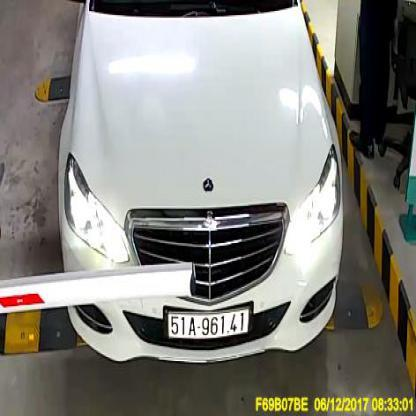biensoxe: (168, 309, 248, 338)
